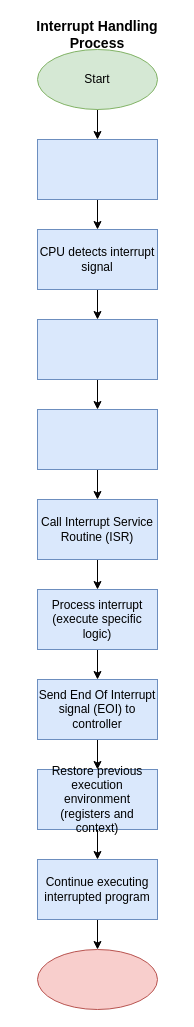
This 194x1027 diagram has some shape labels left out. Here are the shapes that lost their labels. From the top down, the centre of each, then its label:
At (97,169): "Generates interrupt signal".
At (97,349): "Save current execution environment (registers, program counter)".
At (97,439): "Look up Interrupt Descriptor Table (IDT)".
At (97,979): "End".
